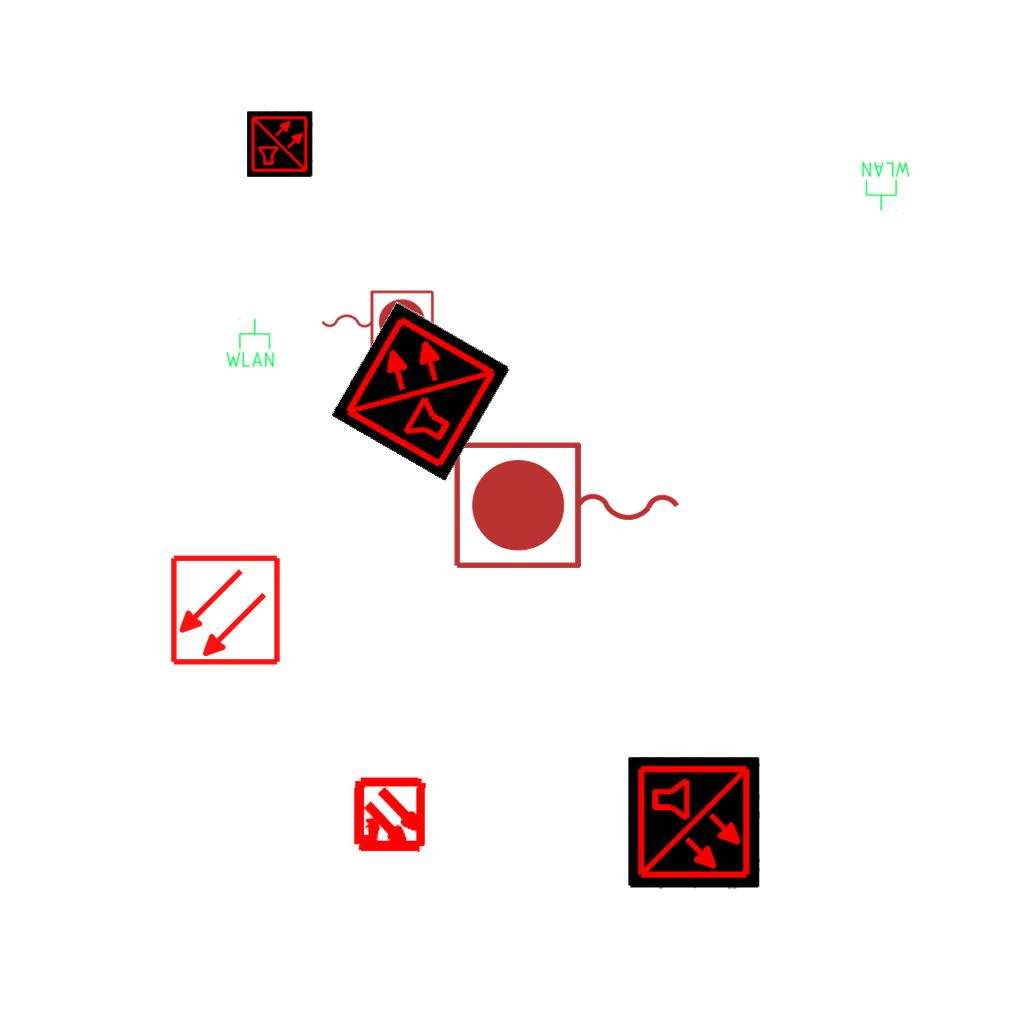OKW_Multisensormelder_(Kombination_optischer_Rauch-Kahlenmonoxid_Waerme-Melder): (330, 300, 512, 482), (628, 757, 760, 889), (247, 111, 313, 177)
OT_Multisensormelder_(Kombination_RMO_WMD): (332, 759, 447, 874)
RMO_Rauchmelder_optischer: (169, 554, 282, 667)
WLAN: (860, 160, 912, 212), (224, 317, 276, 369)
Zugtaster: (446, 435, 690, 579), (316, 285, 438, 357)
